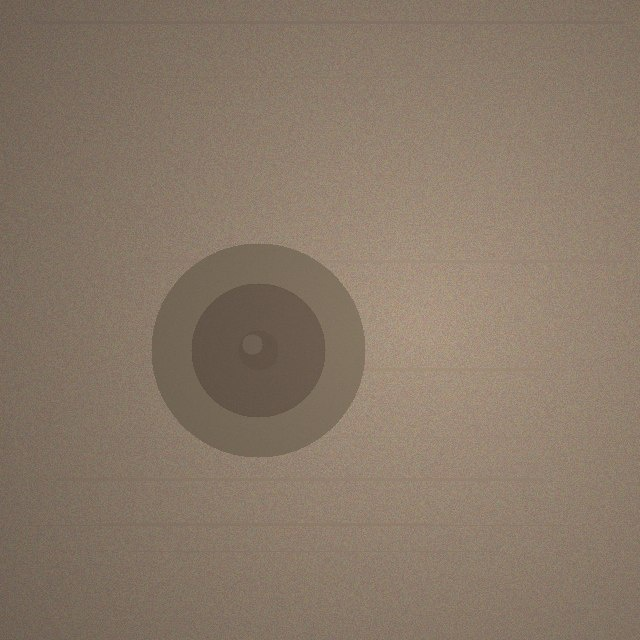good: (151, 243, 365, 457)
